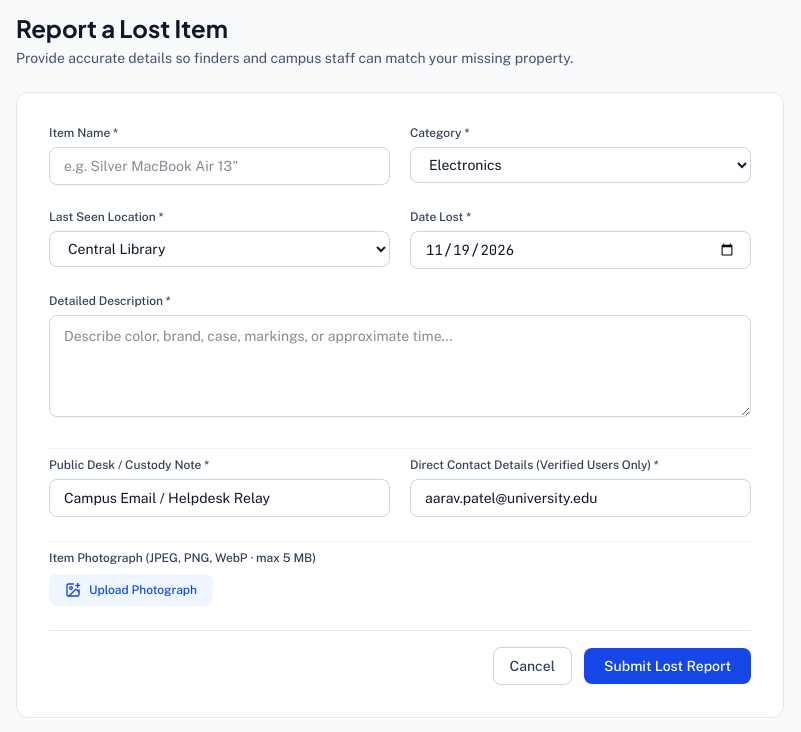
Scenario: Module 1: Lost and Found Item Management › TC-M1-03: Validates required fields and blocks submission when empty
Click the button "Submit Lost Report": (668, 666) [584,648,751,684]
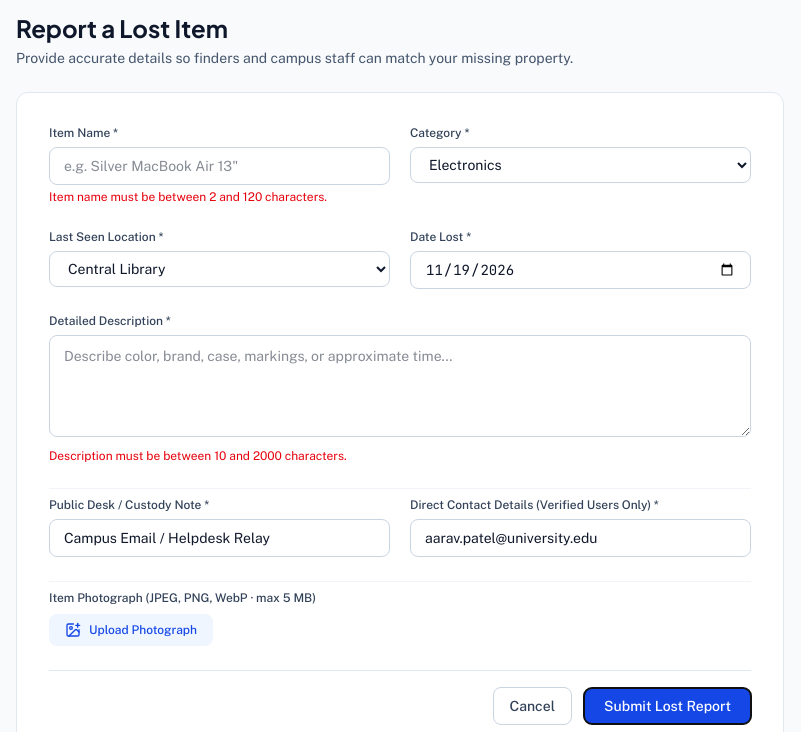
Expected: the text "Item name must be between 2 and 120 characters." is shown, [49,190,327,204]
Expected: the text "Description must be between 10 and 2000 characters." is shown, [49,449,347,463]
